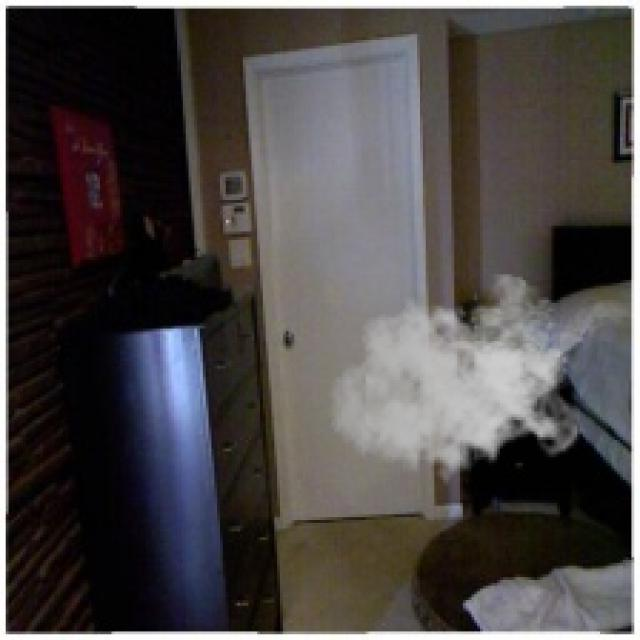smoke: (328, 274, 586, 494)
